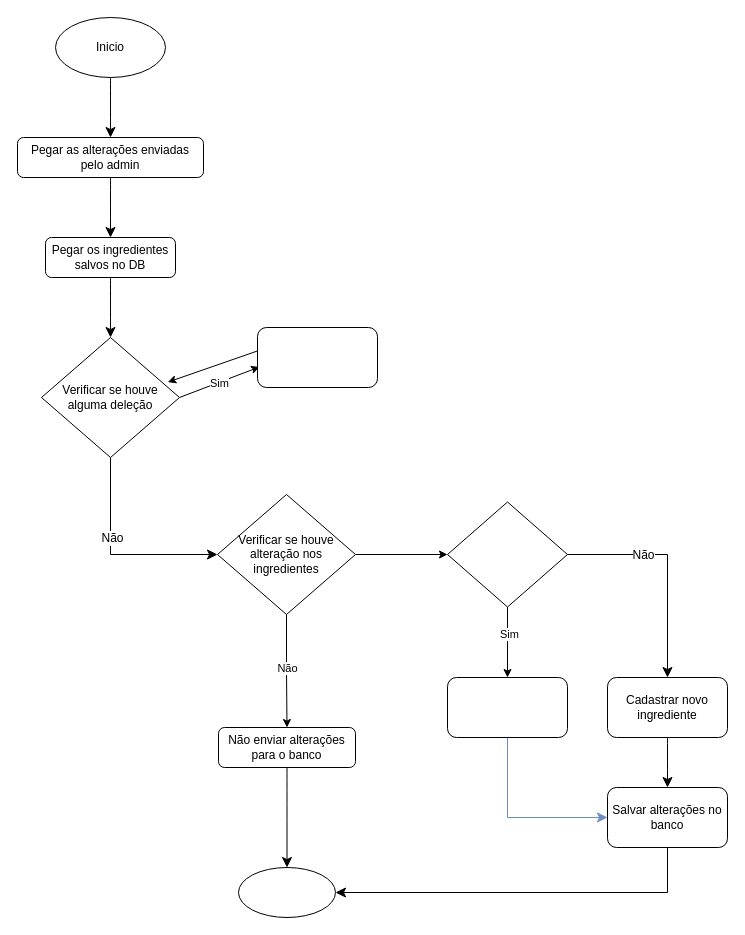
Some shapes in this 745 by 935 pixel diagram are drawn without their labels. The shapes that lost their labels are listed below. From the top down, each one's box as (x1, y1, x2, y2) in pixels, then its label:
(256, 326, 378, 388): Remover igrediente do DB
(446, 501, 568, 607): Verificar se já existe ingrediente cadastrado
(446, 676, 568, 738): Cadastrar outro no lugar
(238, 866, 336, 918): Fim
